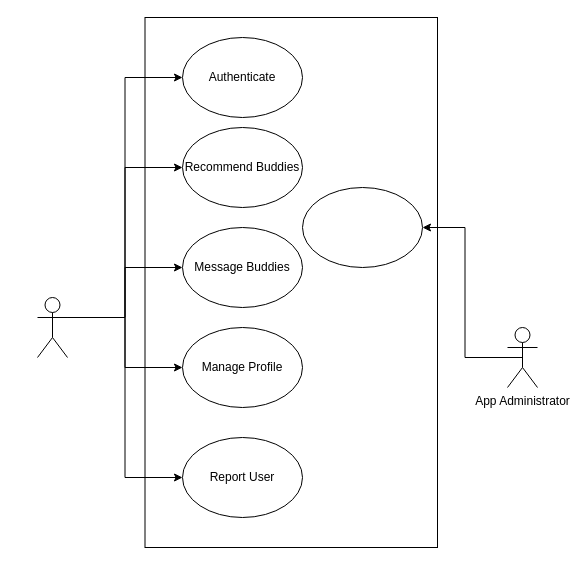
This 587x565 diagram has some shape labels left out. Here are the shapes that lost their labels. From the top down, the box of each, then its label:
(302, 186, 422, 268): Ban User
(36, 296, 68, 358): General User
